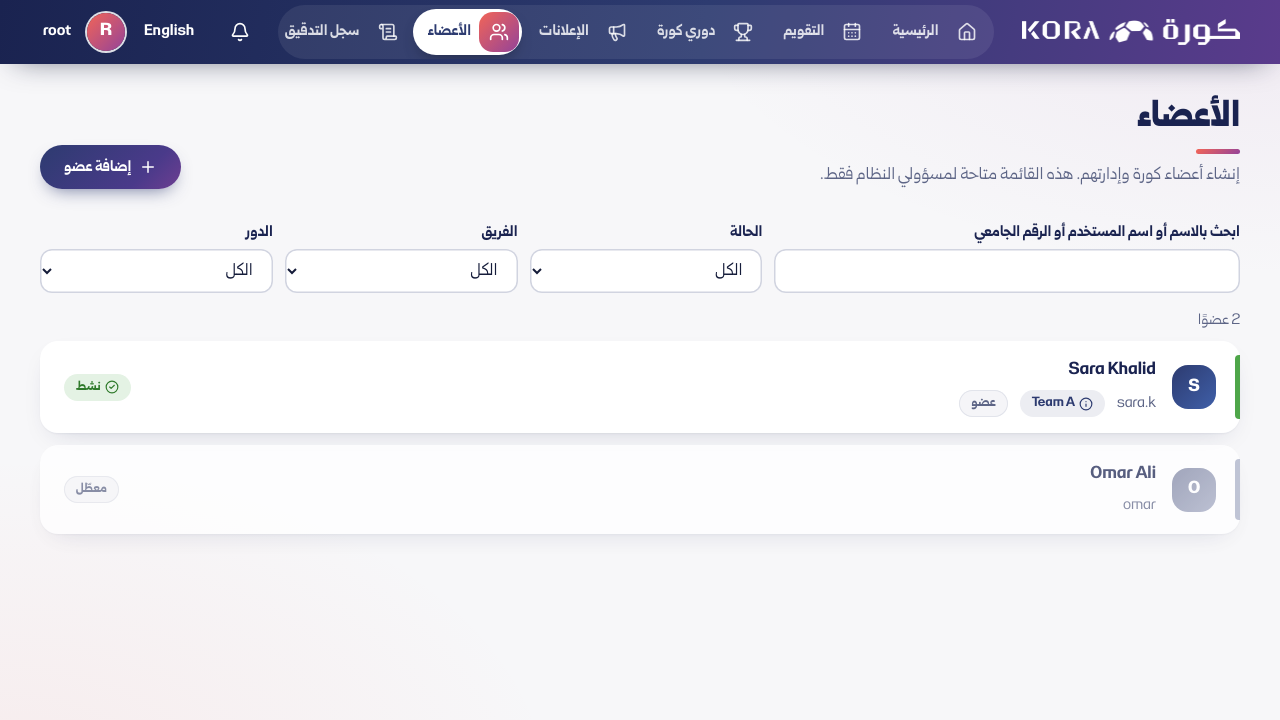
Members (System Admin) › lists Members and filters by search and status
Expected: the text "2 عضوًا" is shown, [1198, 310, 1240, 331]
In the search field labelled "ابحث بالاسم أو اسم المستخدم أو الرقم الجامعي": (1007, 271) [774, 249, 1240, 293], type "2021"
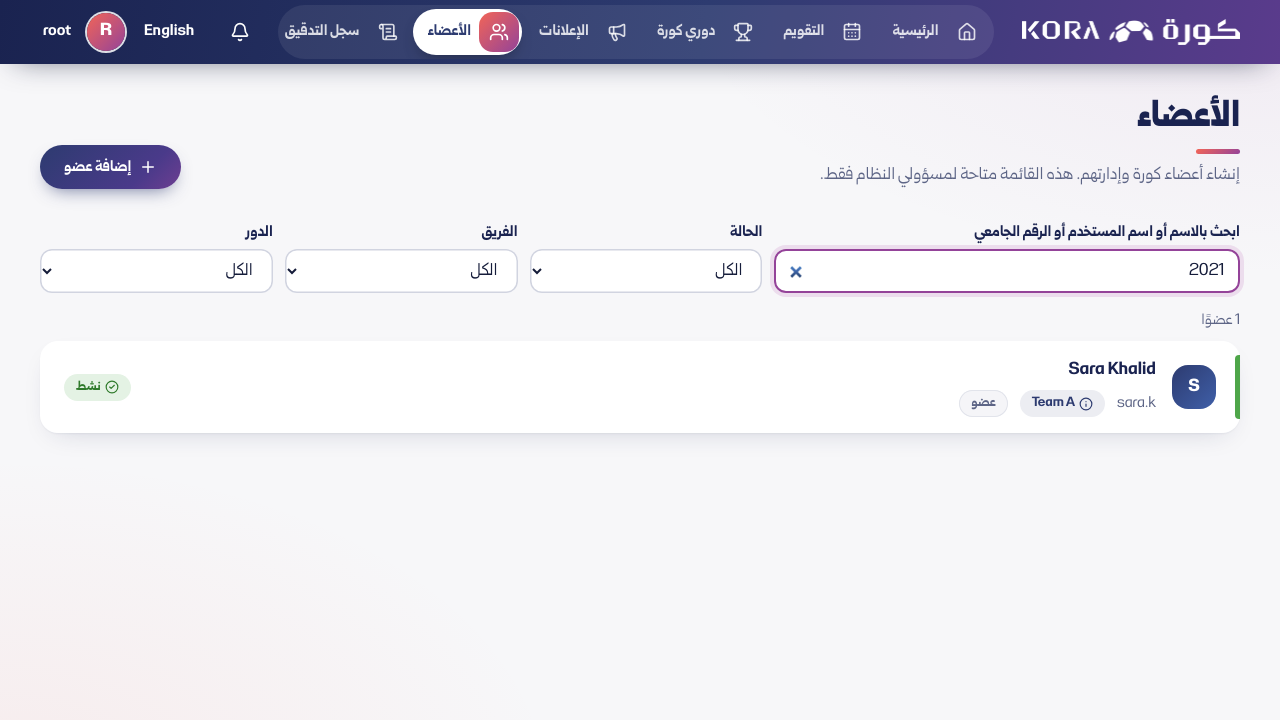
Expected: the link "Omar Ali" is gone
Clear the search field labelled "ابحث بالاسم أو اسم المستخدم أو الرقم الجامعي": (1007, 271) [774, 249, 1240, 293]
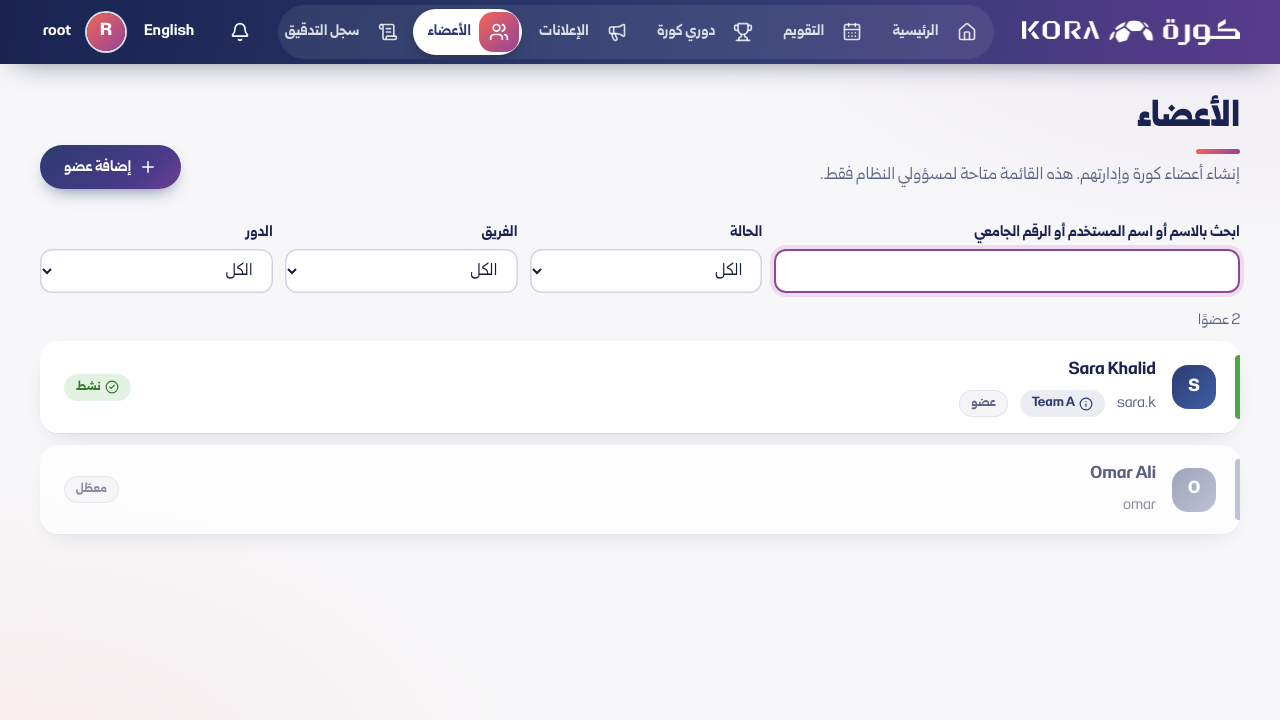
Select "معطّل" in the dropdown labelled "الحالة": (646, 271) [530, 249, 762, 293]
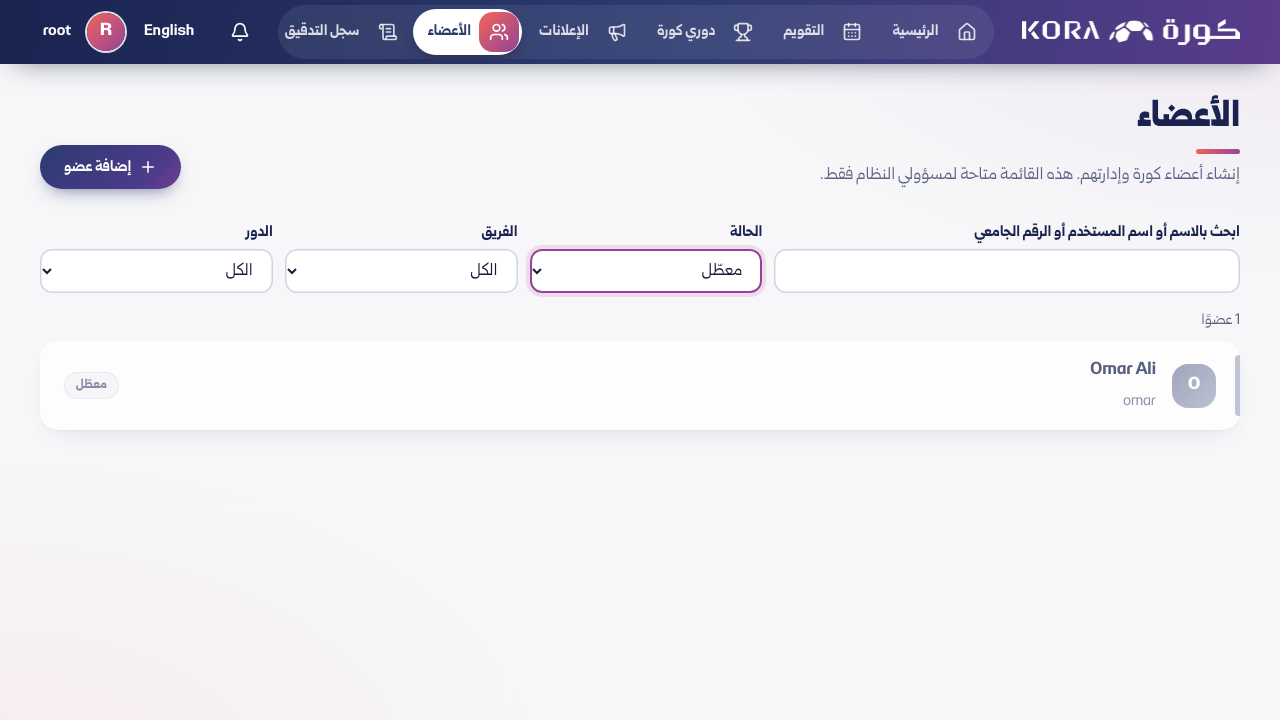
Expected: the link "Omar Ali" is shown, [1090, 358, 1156, 382]
Expected: the link "Sara Khalid" is gone
